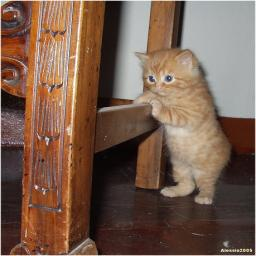catnose: (154, 86, 163, 92)
